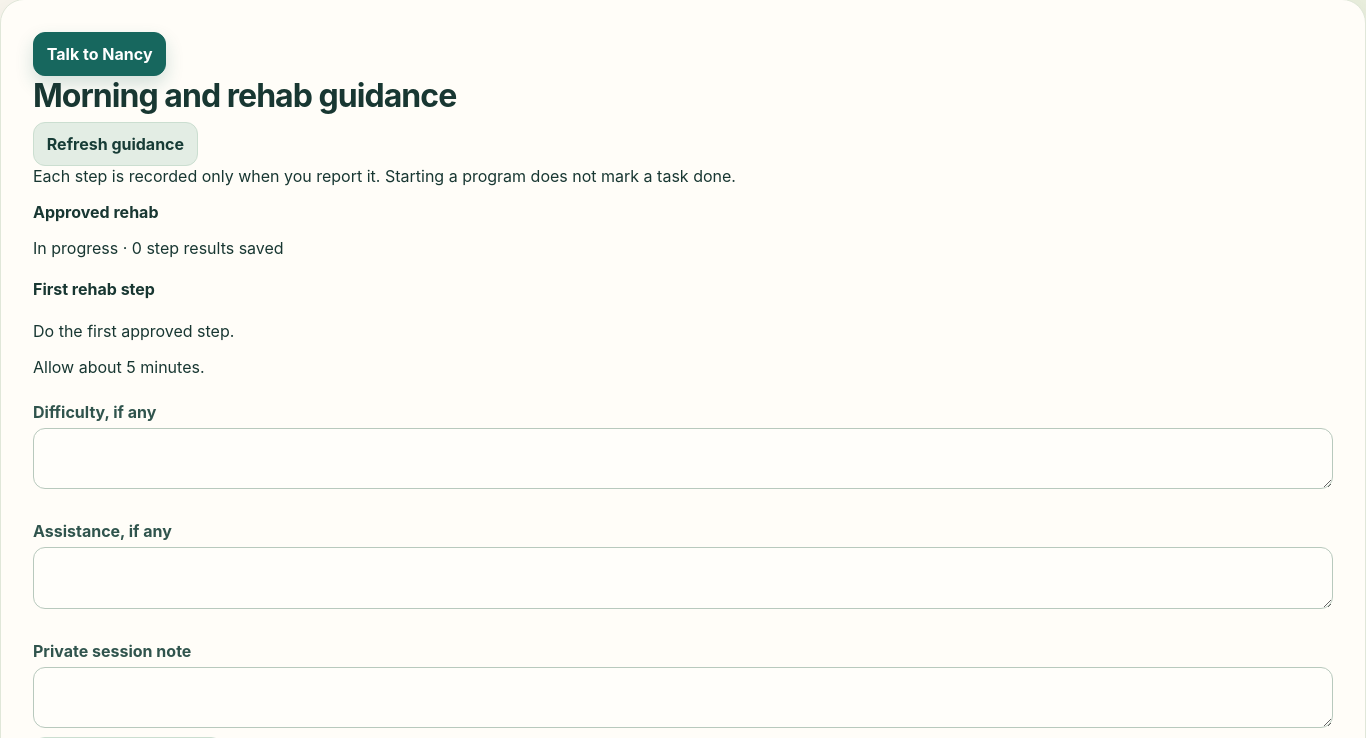
Test: retains an unconfirmed step note until its receipt is found, then clears it
Expected: the text "Do the first approved step." is shown, [33,321,234,341]
Type "Keep this until confirmed" into the text box labelled "Private session note" at (683, 698), box [33,667,1333,728]
(page scrolled)
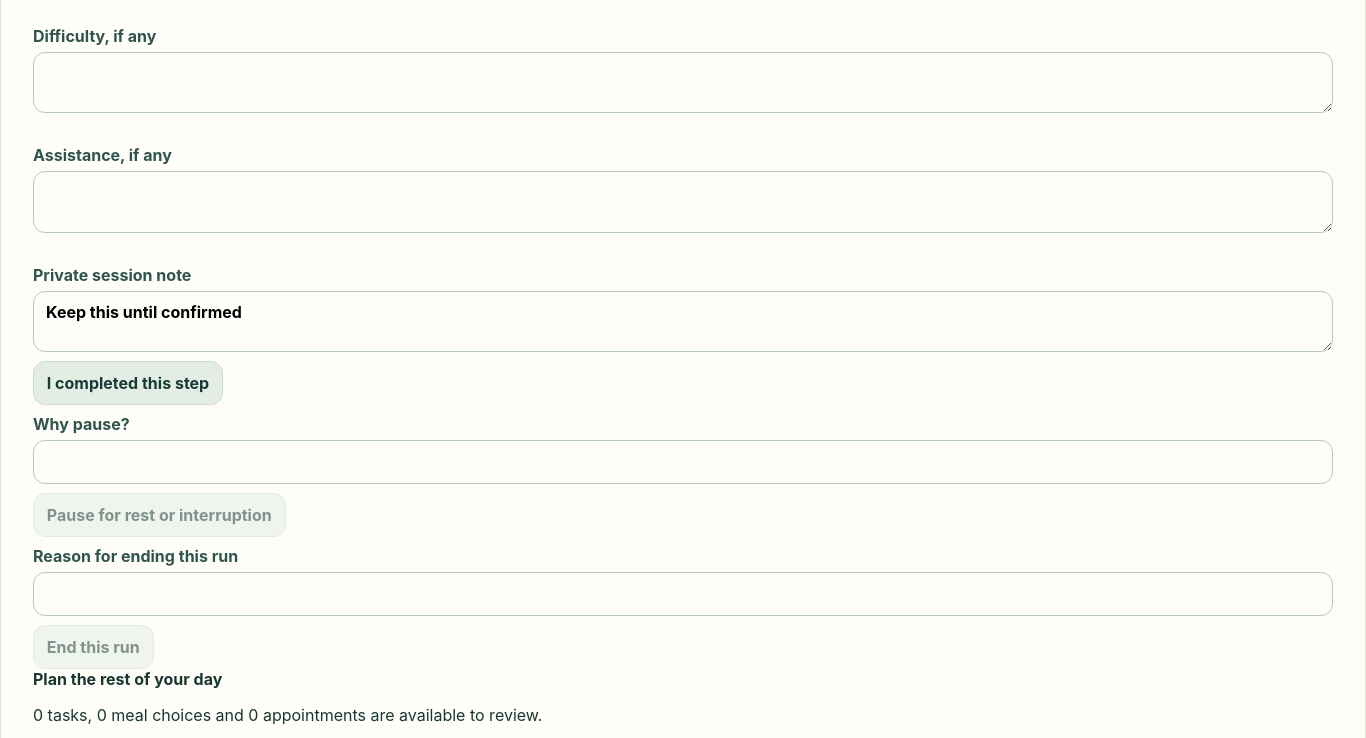
Click the button "I completed this step" at (128, 383), box [33,361,223,405]
(page scrolled)
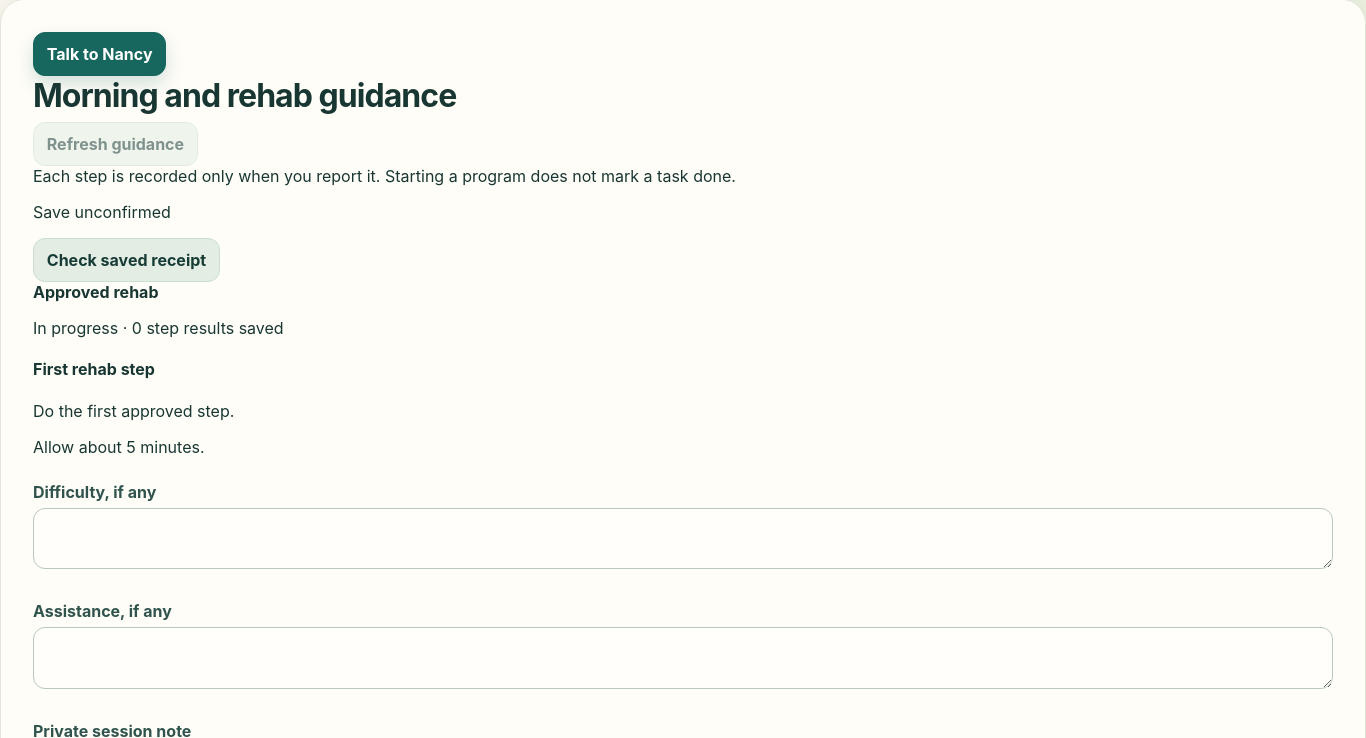
Expected: the message reads "Save unconfirmed", [33,202,171,222]
Click the button "Check saved receipt" at (126, 260), box [33,238,220,282]
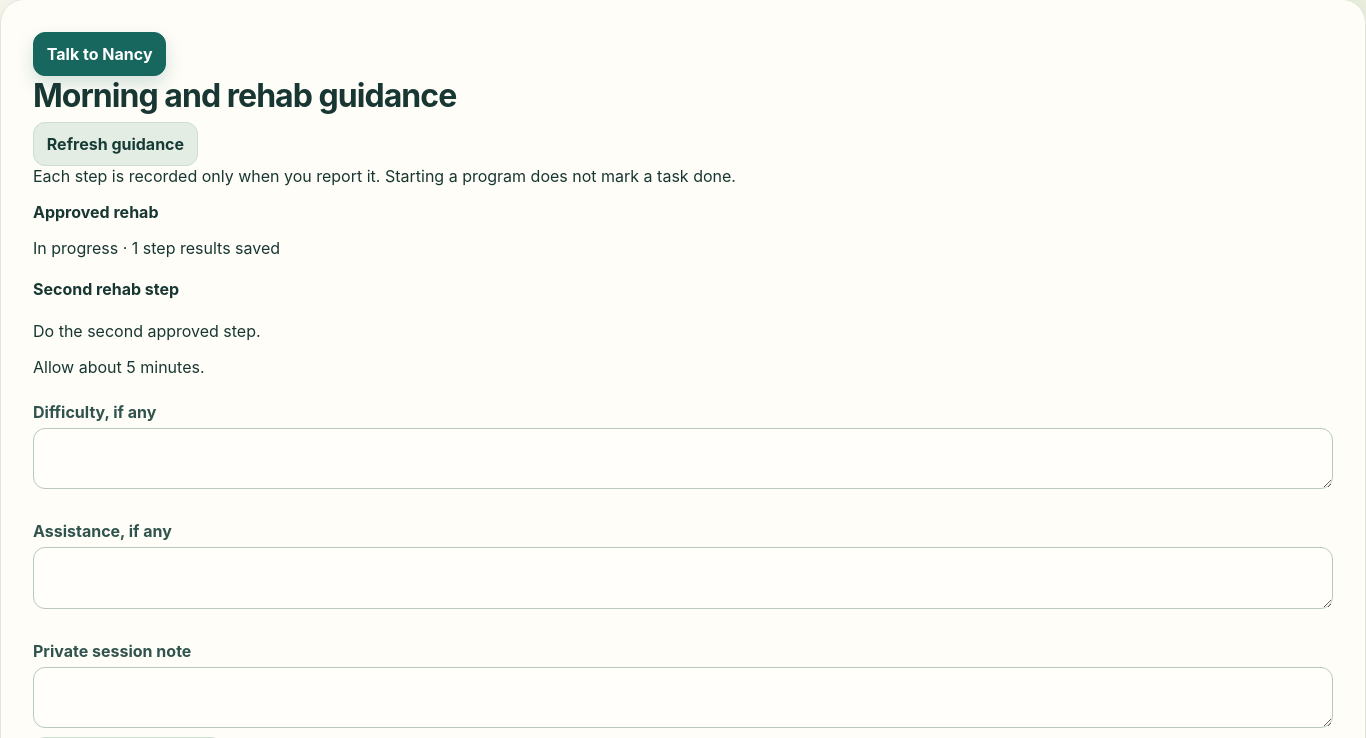
Expected: the text "Do the second approved step." is shown, [33,321,261,341]
Expected: the text box labelled "Private session note" is empty, [33,667,1333,728]
